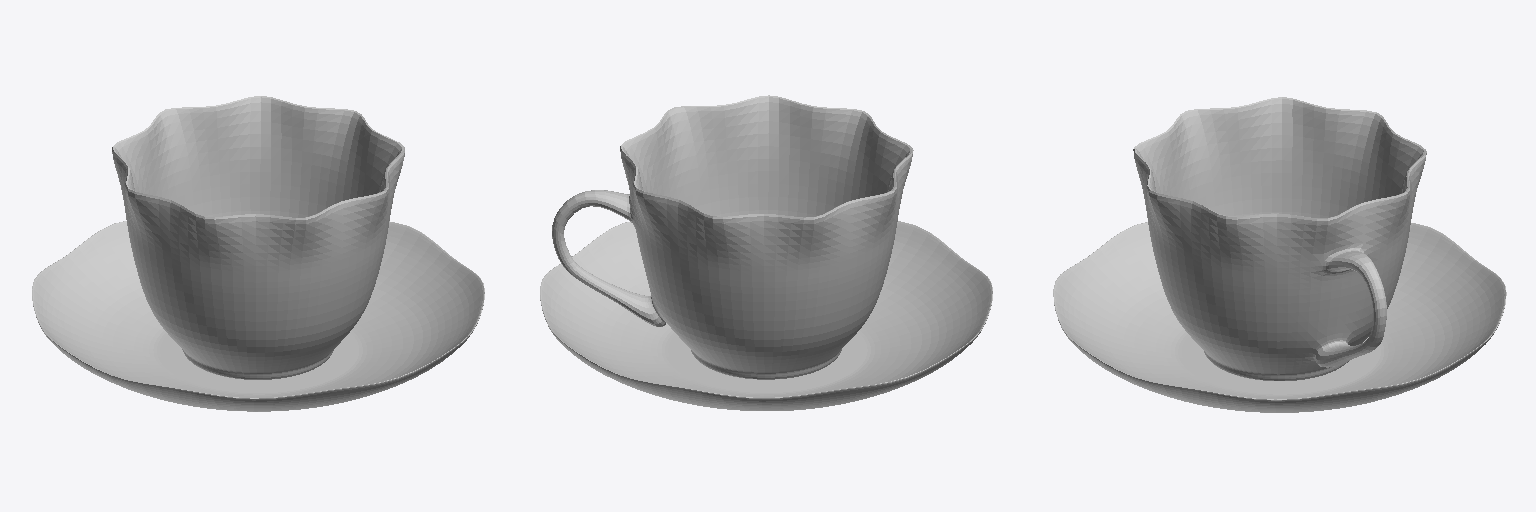
Rendered from Cup_cotton.obj.
3 views of the same model, side by side, from view 1: azimuth 30°, elevation 25°; view 2: azimuth 150°, elevation 25°; view 3: azimuth 270°, elevation 25° (orthographic).
Visible parts, largest first — view 1: Cup_cotton_Cylinder, Plate; view 2: Cup_cotton_Cylinder, Plate; view 3: Cup_cotton_Cylinder, Plate.
Part boxes in pixels (x1,y1,x2,y2): Cup_cotton_Cylinder: (112, 96, 404, 379); Plate: (32, 221, 484, 411); Cup_cotton_Cylinder: (552, 95, 913, 379); Plate: (540, 221, 992, 410); Cup_cotton_Cylinder: (1133, 97, 1426, 380); Plate: (1053, 222, 1506, 412).
Size of the model in its own units: 0.1965 by 0.0951 by 0.197.